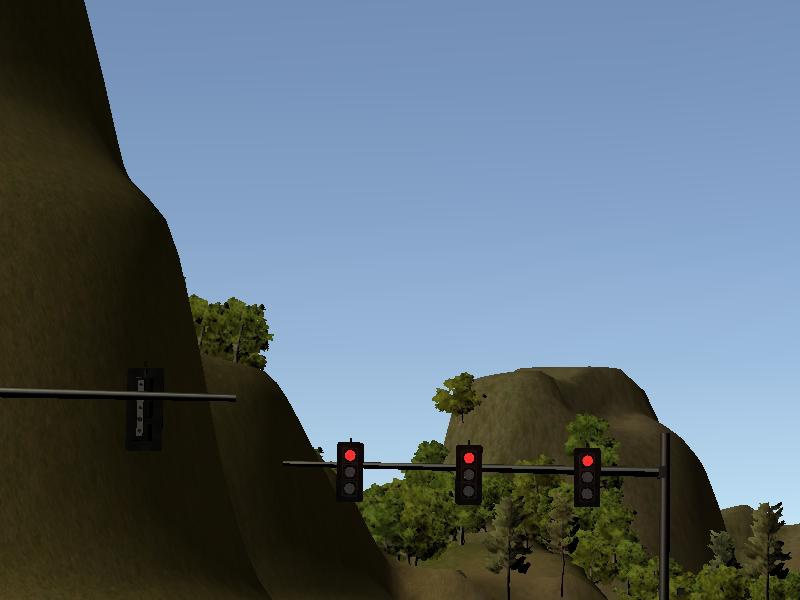Red: (336, 443, 363, 503), (574, 449, 600, 506), (456, 444, 480, 504)
